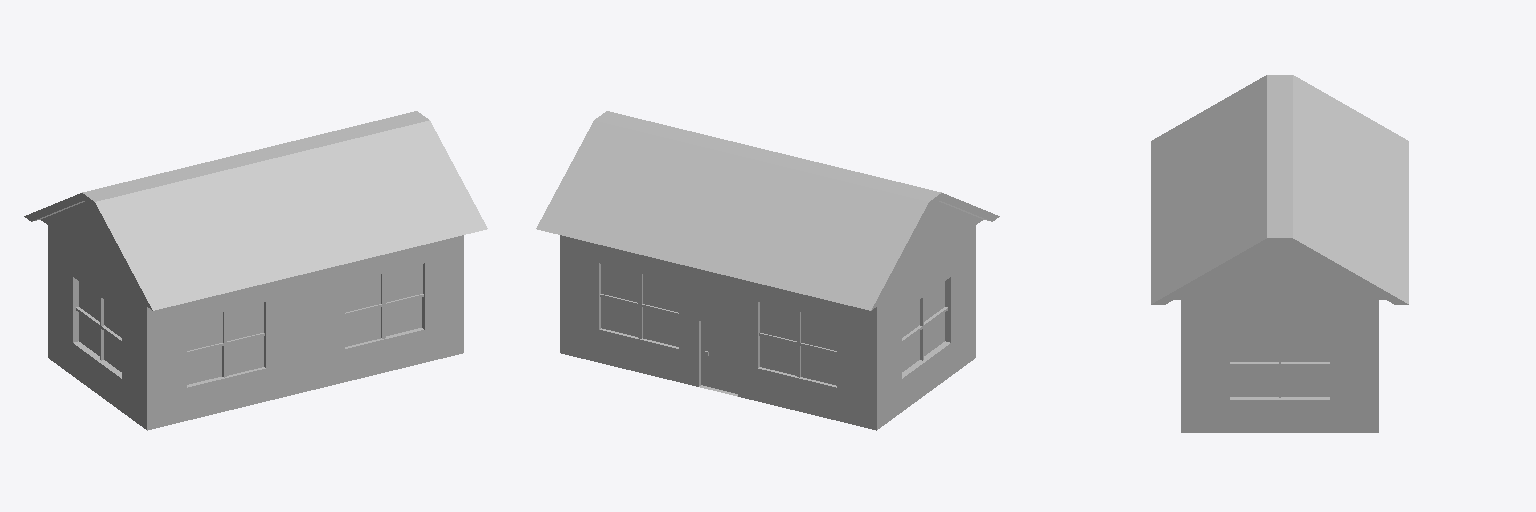
The model's file is House.obj.
3 views of the same model, side by side, from view 1: azimuth 30°, elevation 25°; view 2: azimuth 150°, elevation 25°; view 3: azimuth 270°, elevation 25° (orthographic).
Visible parts, largest first — view 1: Rectangle_Cube.001; view 2: Rectangle_Cube.001; view 3: Rectangle_Cube.001.
Part boxes in pixels (left/top/right/bottom): Rectangle_Cube.001: left=24, top=111, right=487, bottom=430; Rectangle_Cube.001: left=536, top=111, right=999, bottom=430; Rectangle_Cube.001: left=1151, top=75, right=1408, bottom=432.
Size of the model in its own units: 7.4 by 4.2 by 4.94.